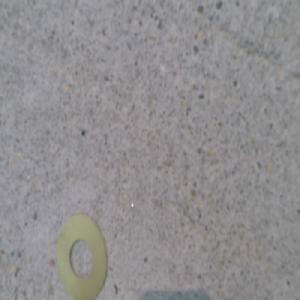Washer: (57, 214, 107, 299)
